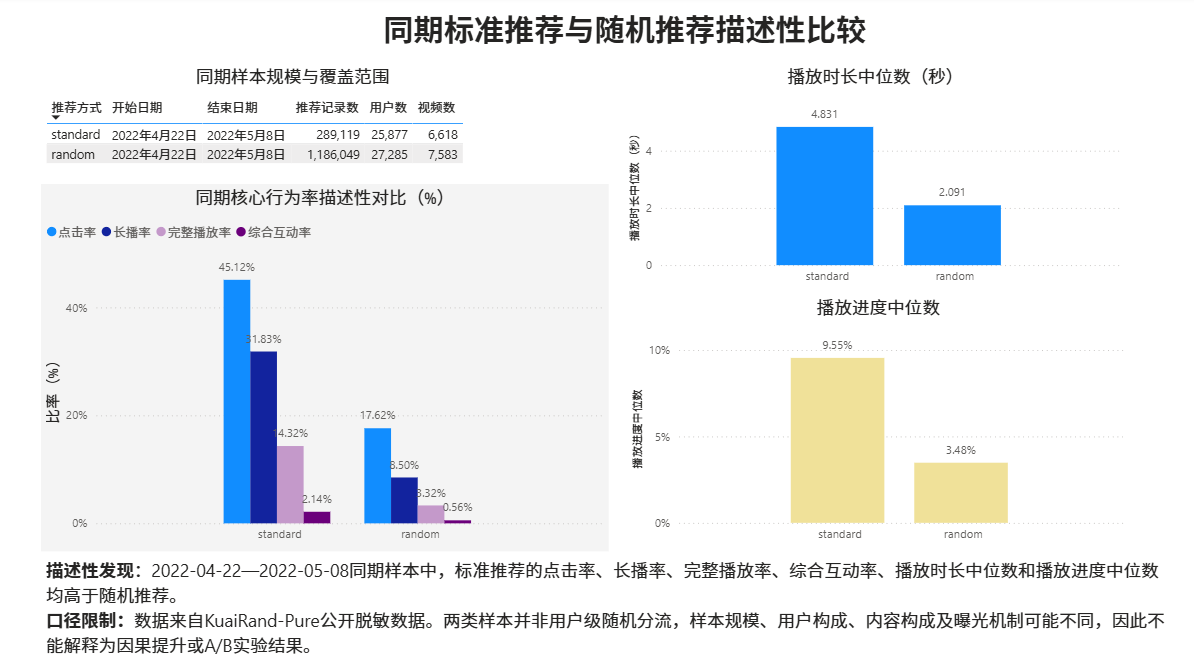

What the dashboard file says about the page in this screenshot:
{"tool":"powerbi","page":{"name":"推荐方式对比","canvas":[1280,720],"ordinal":2},"visuals":[{"type":"clusteredColumnChart","title":"同期核心行为率描述性对比（%）","fields":{"Category":["kuairand_analytics vw_metric_recommendation_comparison.recommendation_method"],"Y":["Avg(kuairand_analytics vw_metric_recommendation_comparison.click_rate_pct)","Avg(kuairand_analytics vw_metric_recommendation_comparison.long_view_rate_pct)","Avg(kuairand_analytics vw_metric_recommendation_comparison.complete_play_rate_pct)","Sum(kuairand_analytics vw_metric_recommendation_comparison.interaction_rate_pct)"]},"box":[51.7,200,601.7,390],"z":0},{"type":"tableEx","title":"同期样本规模与覆盖范围","fields":{"Values":["kuairand_analytics vw_metric_recommendation_comparison.recommendation_method","kuairand_analytics vw_metric_recommendation_comparison.min_date","kuairand_analytics vw_metric_recommendation_comparison.max_date","Sum(kuairand_analytics vw_metric_recommendation_comparison.recommendation_records)","Sum(kuairand_analytics vw_metric_recommendation_comparison.unique_users)","Sum(kuairand_analytics vw_metric_recommendation_comparison.unique_videos)"]},"box":[51.7,71.7,533.3,116.7],"z":1000},{"type":"clusteredColumnChart","title":"播放时长中位数（秒）","fields":{"Category":["kuairand_analytics vw_metric_recommendation_comparison.recommendation_method"],"Y":["Avg(kuairand_analytics vw_metric_recommendation_comparison.median_play_time_seconds)"]},"box":[670,71.7,531.7,245],"z":2000},{"type":"clusteredColumnChart","title":"播放进度中位数","fields":{"Category":["kuairand_analytics vw_metric_recommendation_comparison.recommendation_method"],"Y":["Sum(kuairand_analytics vw_metric_recommendation_comparison.median_play_ratio)"]},"box":[673.3,316.7,531.7,273.3],"z":3000},{"type":"textbox","box":[51.7,590,1205,130],"z":4000},{"type":"textbox","box":[386.7,6.7,566.7,65],"z":5000}]}

Visuals, with their boxes in screenshot pixels (x1, y1, x2, y2), scaled from the page's 1280x720 canvas onto the 1194x667 screenshot:
"同期核心行为率描述性对比（%）" clusteredColumnChart: <bbox>48, 185, 609, 547</bbox>
"同期样本规模与覆盖范围" tableEx: <bbox>48, 66, 546, 175</bbox>
"播放时长中位数（秒）" clusteredColumnChart: <bbox>625, 66, 1121, 293</bbox>
"播放进度中位数" clusteredColumnChart: <bbox>628, 293, 1124, 547</bbox>
textbox: <bbox>48, 547, 1172, 666</bbox>
textbox: <bbox>361, 6, 889, 66</bbox>
